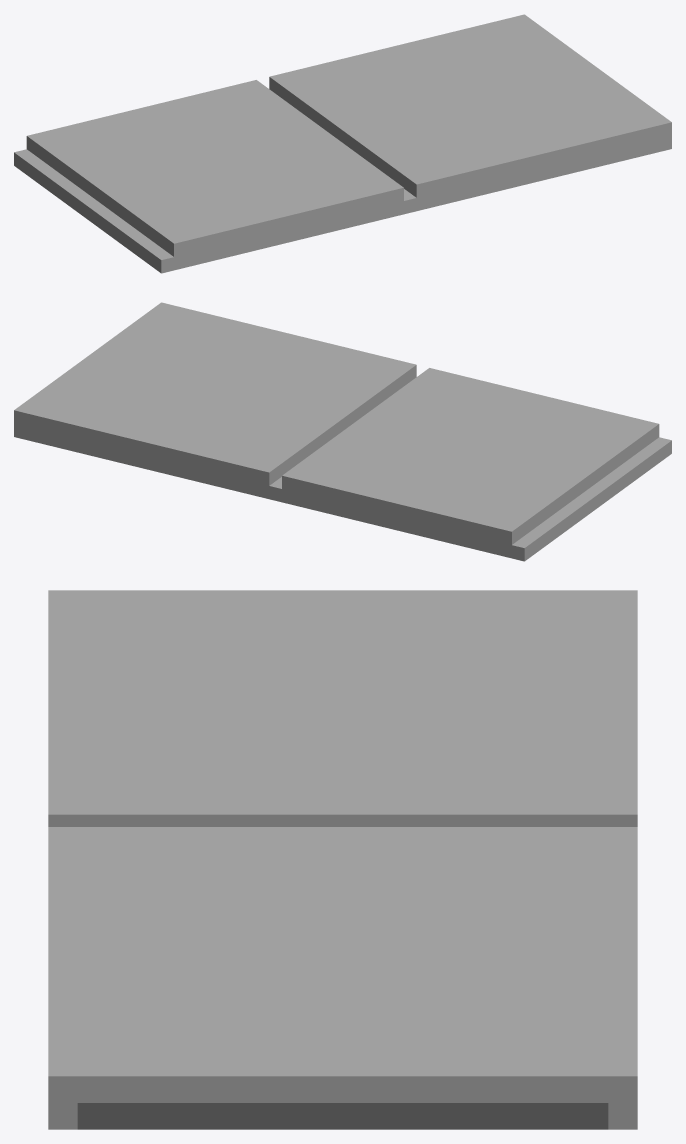
The model's file is Footpath.obj.
The picture shows the model from 3 angles, top to bottom: view 1: azimuth 30°, elevation 25°; view 2: azimuth 150°, elevation 25°; view 3: azimuth 270°, elevation 25°; orthographic projection. The views are drawn at different scales.
Size of the model in its own units: 4 by 0.2 by 2.
1 material, 1 textured.
